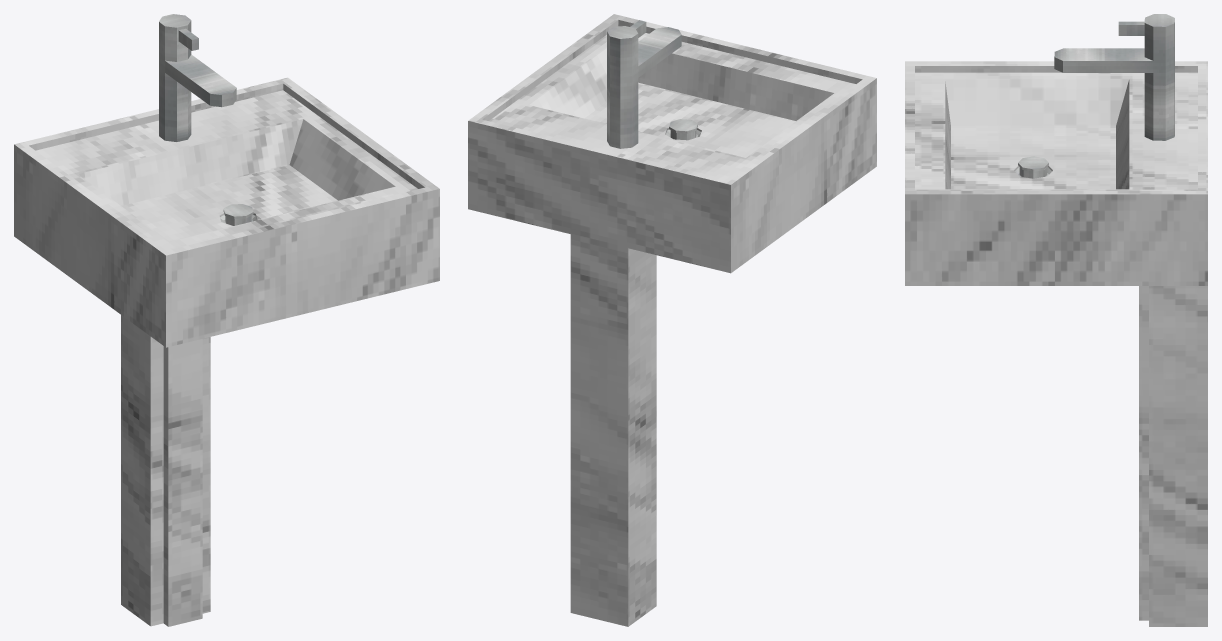
The model's file is Lavabo.fbx.
3 views of the same model, side by side, from view 1: azimuth 30°, elevation 25°; view 2: azimuth 150°, elevation 25°; view 3: azimuth 270°, elevation 25° (orthographic). The views are drawn at different scales.
Parts seen in each view (by area): view 1: Lavabo; view 2: Lavabo; view 3: Lavabo.
Boxes of the visible parts, box(x1,y1,x2,y2) form: Lavabo: box(14, 14, 439, 626); Lavabo: box(468, 14, 876, 626); Lavabo: box(905, 14, 1207, 626).
Size of the model in its own units: 64.45 by 134 by 61.97.
Materials: 1 (1 with a texture image).
